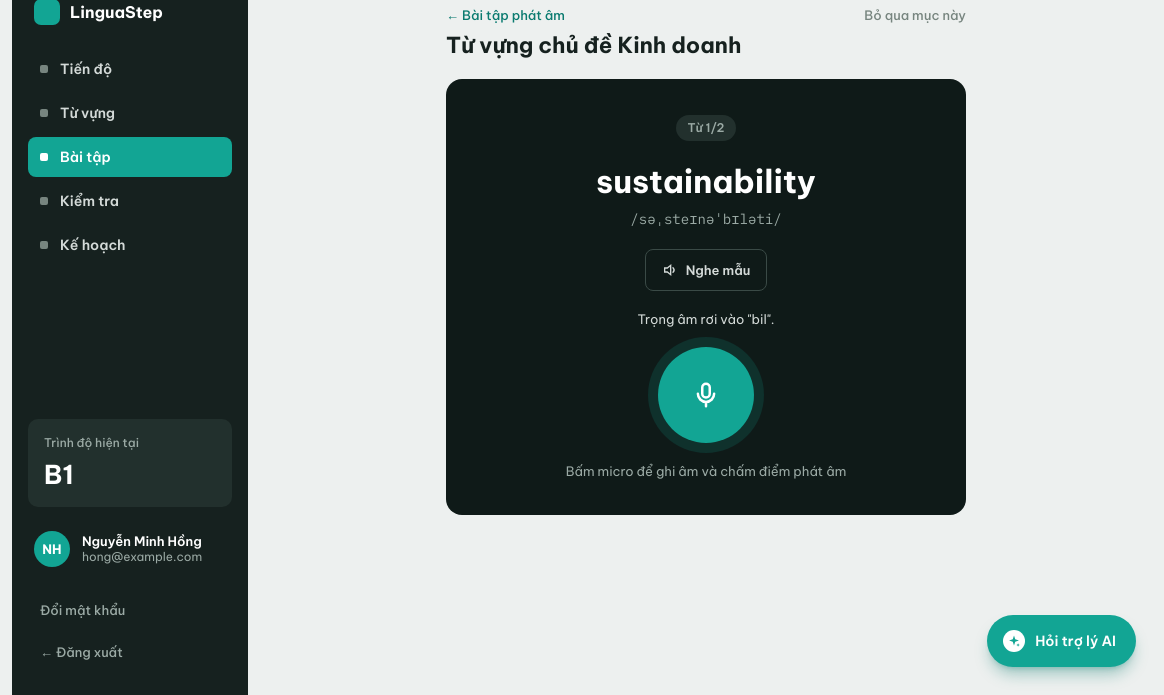
Test case: pronunciation exercise › plays the model, records the learner, sends the WAV and shows OpenPronounce IPA feedback
Expected: the text "/səˌsteɪnəˈbɪləti/" is shown, [630,209,782,229]
Click the button "Nghe mẫu": (706, 270) [645,249,767,291]
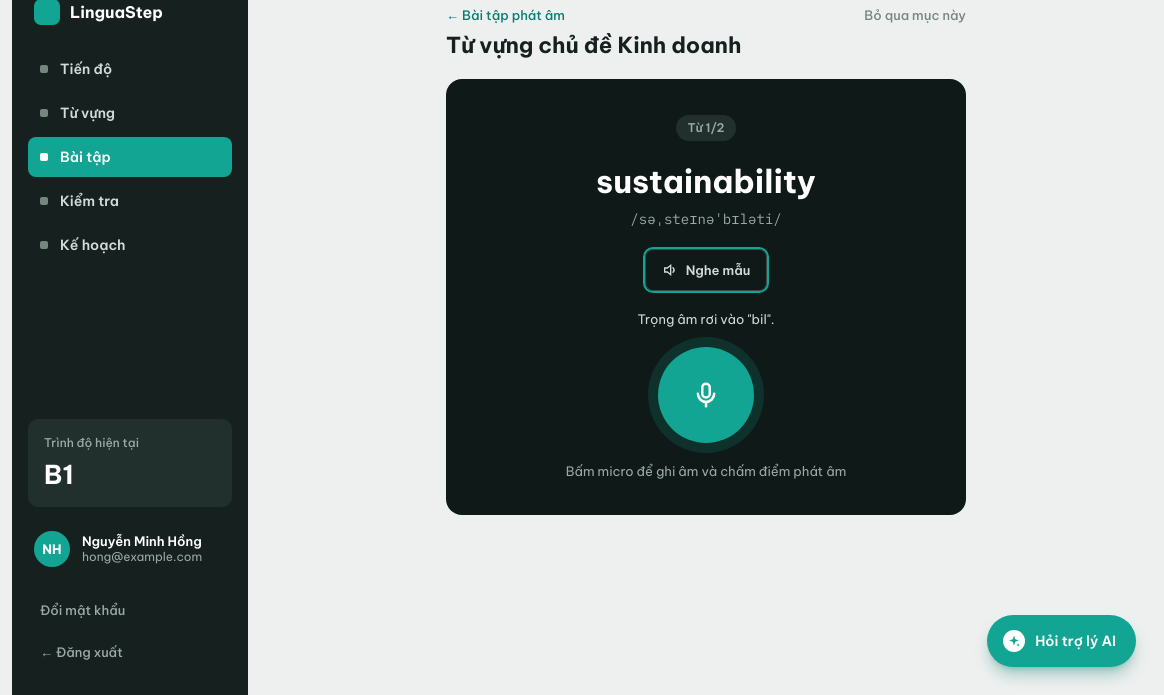
Click the button named "Bắt đầu ghi âm": (706, 395) [658,347,754,443]
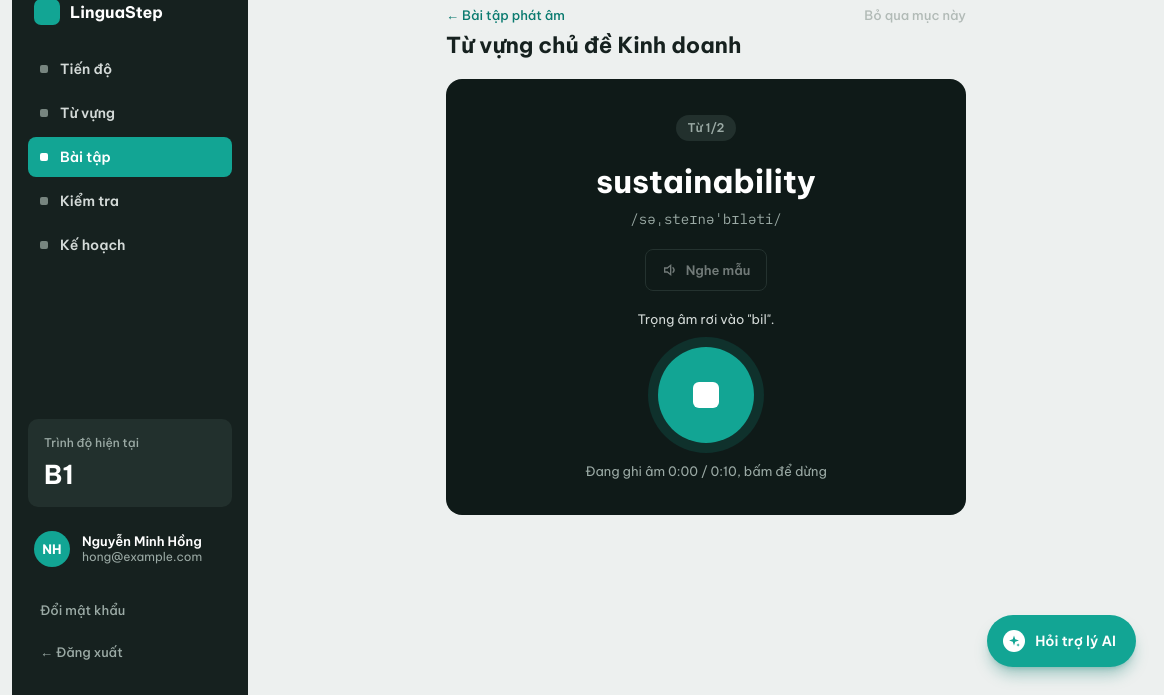
Now the text "Đang ghi âm 0:00 / 0:10, bấm để dừng" is shown, box [585,463,827,479]
Click the button named "Dừng ghi âm": (706, 395) [658,347,754,443]
(page scrolled)
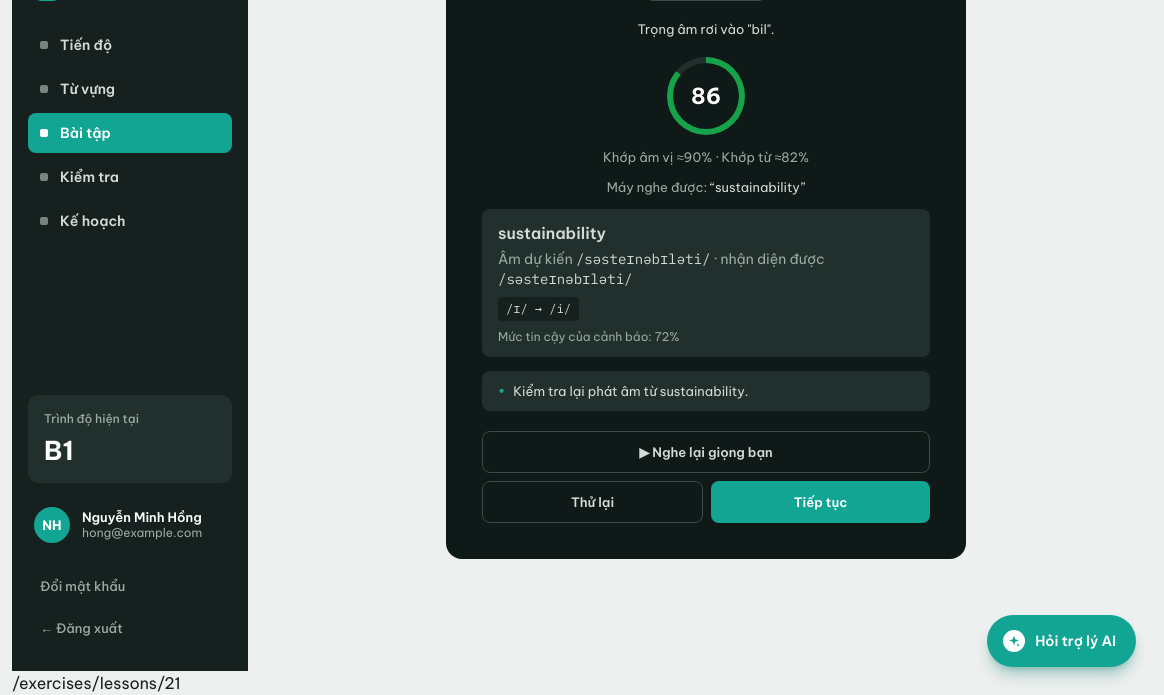
Now the picture named "Điểm phát âm 86 trên 100" is shown, box [667,57,745,135]
Now the text "Từ 1/2" shows "Kiểm tra lại phát âm từ sustainability.", box [513,383,748,399]
Now the button "▶ Nghe lại giọng bạn" is shown, box [482,431,930,473]
Click the button "Thử lại": (592, 502) [482,481,703,523]
(page scrolled)
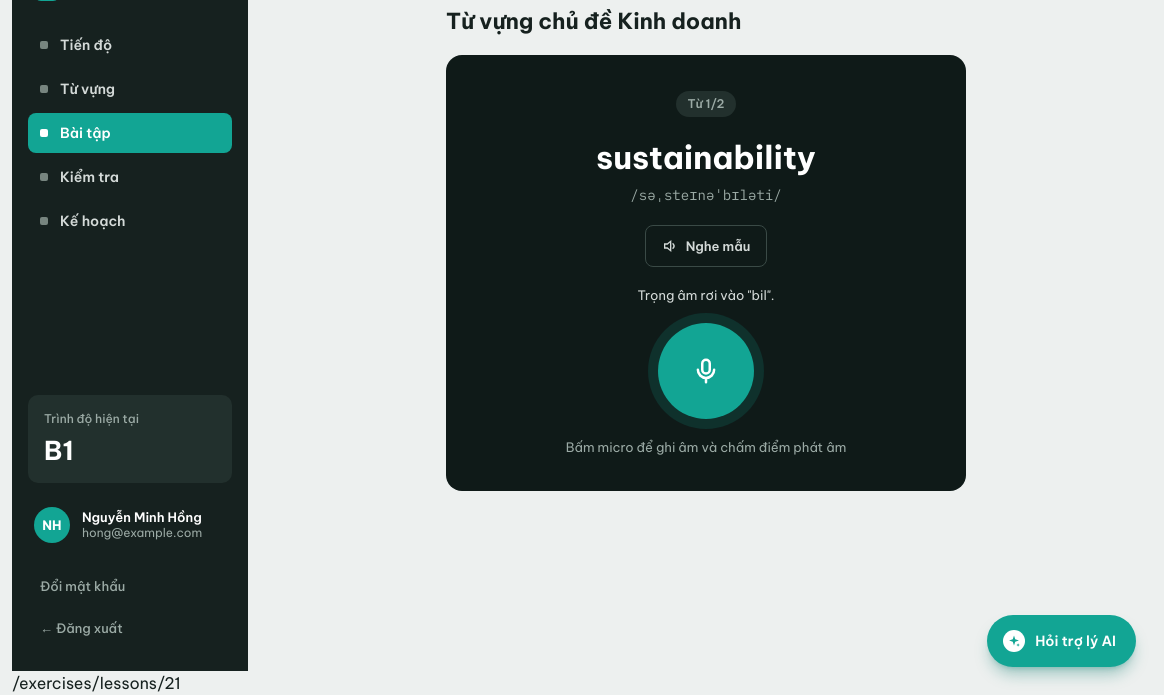
Now the button named "Bắt đầu ghi âm" is shown, box [658,323,754,419]
